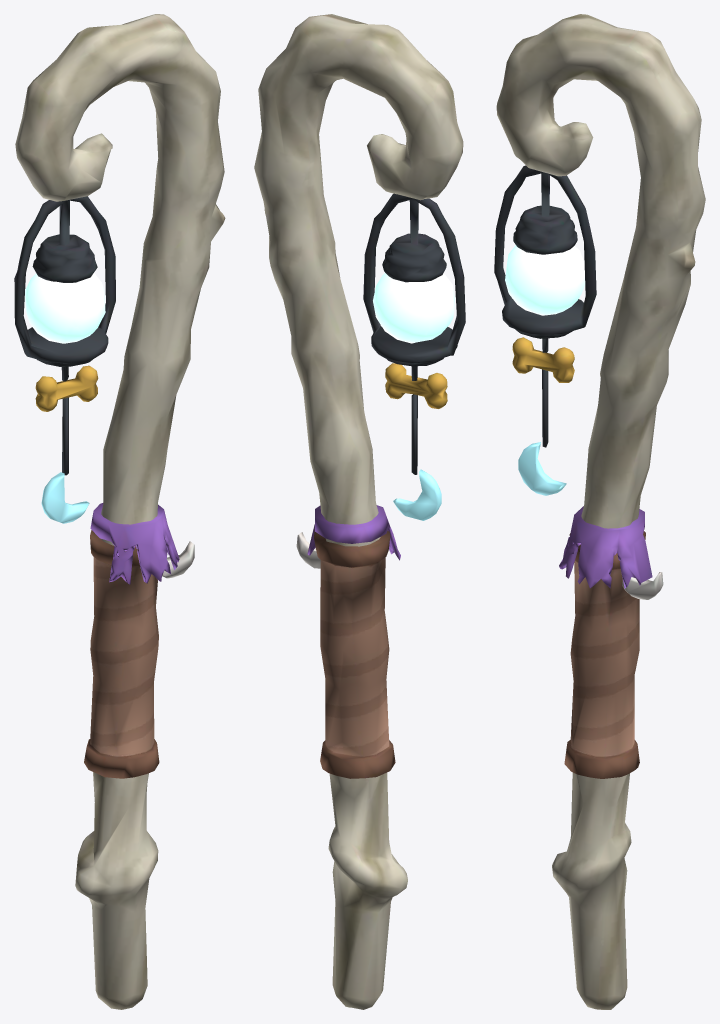
The model's file is graveyard-staff.glb.
3 views of the same model, side by side, from view 1: azimuth 30°, elevation 25°; view 2: azimuth 150°, elevation 25°; view 3: azimuth 330°, elevation 25° (orthographic).
Parts seen in each view (by area): view 1: wood, glow, moon; view 2: wood, glow, moon; view 3: wood, glow, moon.
Part boxes in pixels (<box>): wood: <box>14,14,225,1009</box>; glow: <box>24,273,105,343</box>; moon: <box>41,472,89,523</box>; wood: <box>254,14,465,1009</box>; glow: <box>373,273,454,343</box>; moon: <box>393,469,441,520</box>; wood: <box>494,14,705,1009</box>; glow: <box>505,245,585,315</box>; moon: <box>518,442,566,495</box>.
Bounding box in the file's own units: 0.272 × 1.25 × 0.1088.
Materials: 3 (3 with a texture image).
